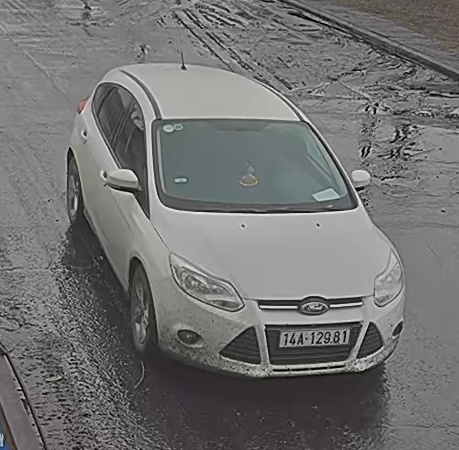vehicle plate: (277, 326, 353, 348)
